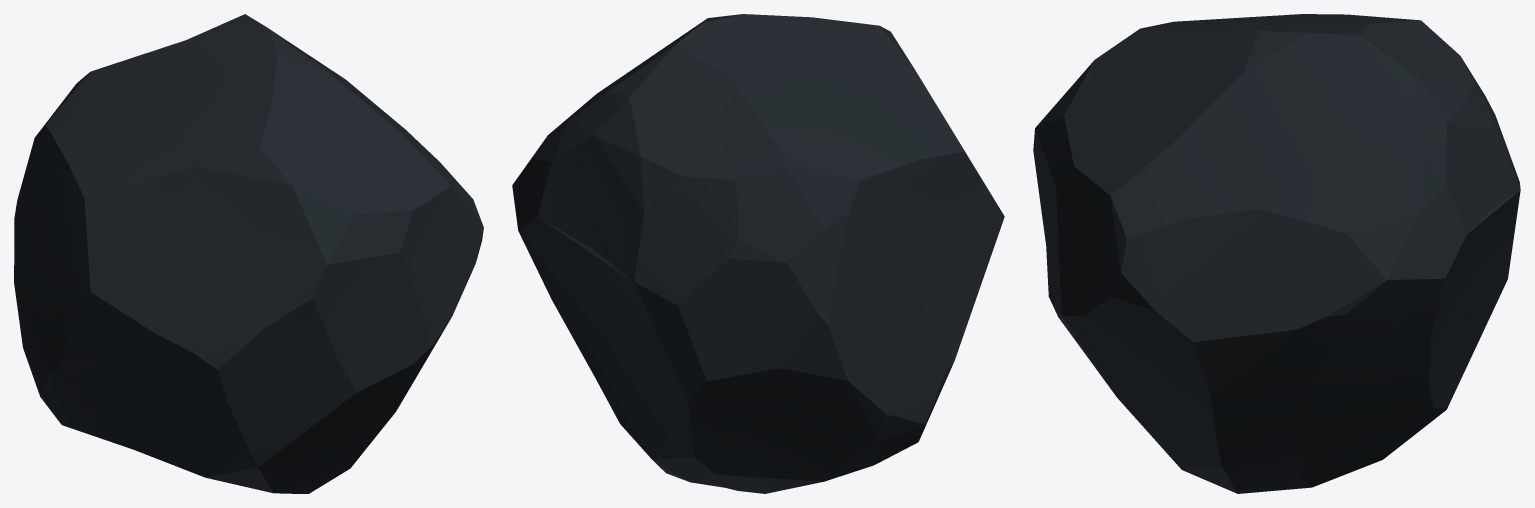
The model's file is Asteroid_s_18.FBX.
The picture shows the model from 3 angles, left to right: view 1: azimuth 30°, elevation 25°; view 2: azimuth 150°, elevation 25°; view 3: azimuth 270°, elevation 25°; orthographic projection. The views are drawn at different scales.
Visible parts, largest first — view 1: Asteroid_s_18; view 2: Asteroid_s_18; view 3: Asteroid_s_18.
Part boxes in pixels (x1,y1,x2,y2): Asteroid_s_18: (14,14,483,493); Asteroid_s_18: (512,14,1004,493); Asteroid_s_18: (1033,14,1520,493).
Bounding box in the file's own units: 177 × 189 × 183.
